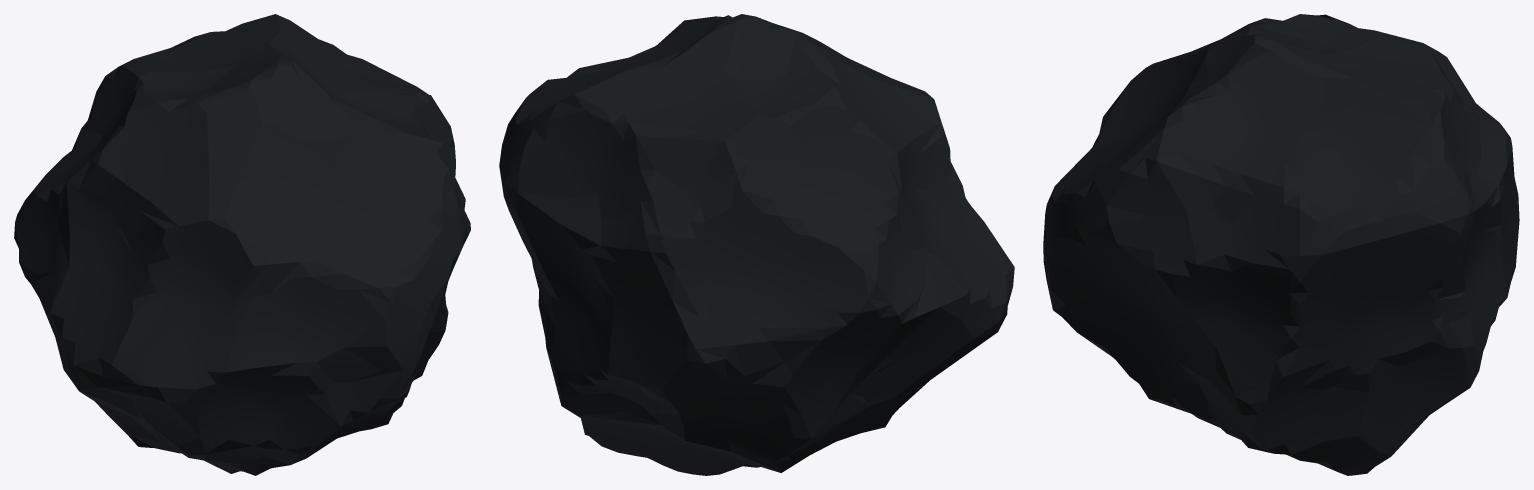
Rendered from Asteroid_h_01.FBX.
The picture shows the model from 3 angles, left to right: view 1: azimuth 30°, elevation 25°; view 2: azimuth 150°, elevation 25°; view 3: azimuth 270°, elevation 25°; orthographic projection. The views are drawn at different scales.
Visible parts, largest first — view 1: Asteroid_h_01; view 2: Asteroid_h_01; view 3: Asteroid_h_01.
Boxes of the visible parts, left/top/right/bottom form: Asteroid_h_01: left=14, top=14, right=470, bottom=475; Asteroid_h_01: left=499, top=14, right=1014, bottom=475; Asteroid_h_01: left=1043, top=14, right=1519, bottom=475.
Bounding box in the file's own units: 3752 × 3542 × 3679.
